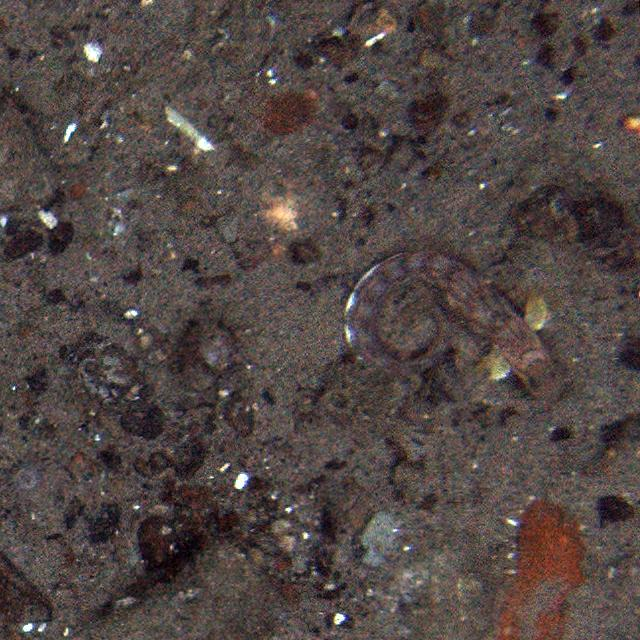roundfish: (333, 238, 568, 407)
